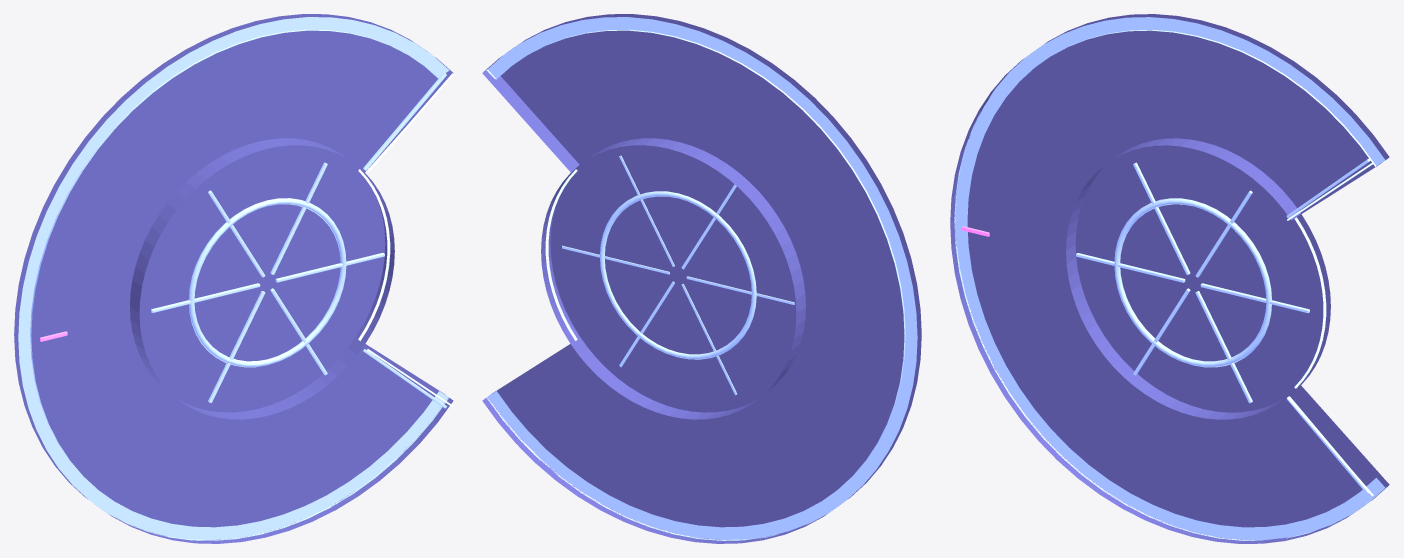
The model's file is prism-panel-fun0-high.glb.
3 views of the same model, side by side, from view 1: azimuth 30°, elevation 25°; view 2: azimuth 150°, elevation 25°; view 3: azimuth 330°, elevation 25° (orthographic).
Visible parts, largest first — view 1: RENDER_PANEL_SHELL, RENDER_PANEL_FRAME, RENDER_PANEL_SIGNAL; view 2: RENDER_PANEL_SHELL, RENDER_PANEL_FRAME, RENDER_PANEL_SIGNAL; view 3: RENDER_PANEL_SHELL, RENDER_PANEL_FRAME, RENDER_PANEL_SIGNAL.
Boxes of the visible parts, <box> form: RENDER_PANEL_SHELL: <box>14,14,453,543</box>; RENDER_PANEL_FRAME: <box>18,17,449,540</box>; RENDER_PANEL_SIGNAL: <box>358,73,453,407</box>; RENDER_PANEL_SHELL: <box>482,14,921,543</box>; RENDER_PANEL_FRAME: <box>486,17,917,540</box>; RENDER_PANEL_SIGNAL: <box>545,169,577,340</box>; RENDER_PANEL_SHELL: <box>950,14,1389,543</box>; RENDER_PANEL_FRAME: <box>954,17,1385,540</box>; RENDER_PANEL_SIGNAL: <box>1287,162,1373,496</box>.
Size of what is drawn, in the model's own units: 36.2 by 41 by 1.95.
